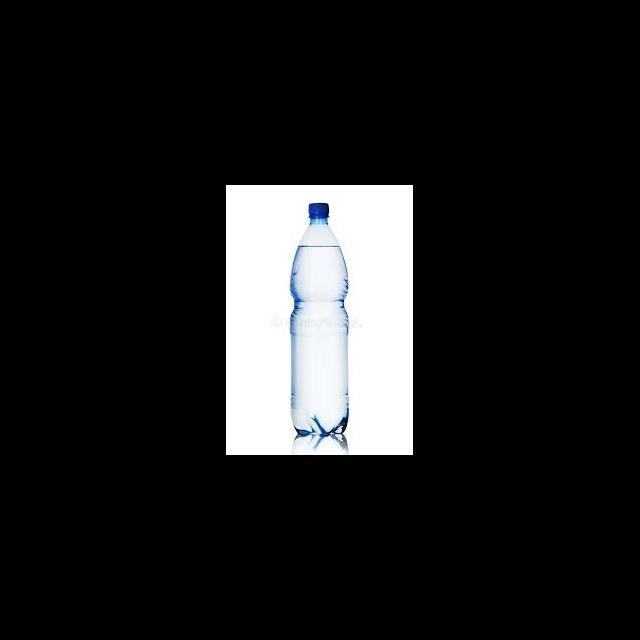plastic: (288, 202, 348, 436), (308, 202, 328, 219)
